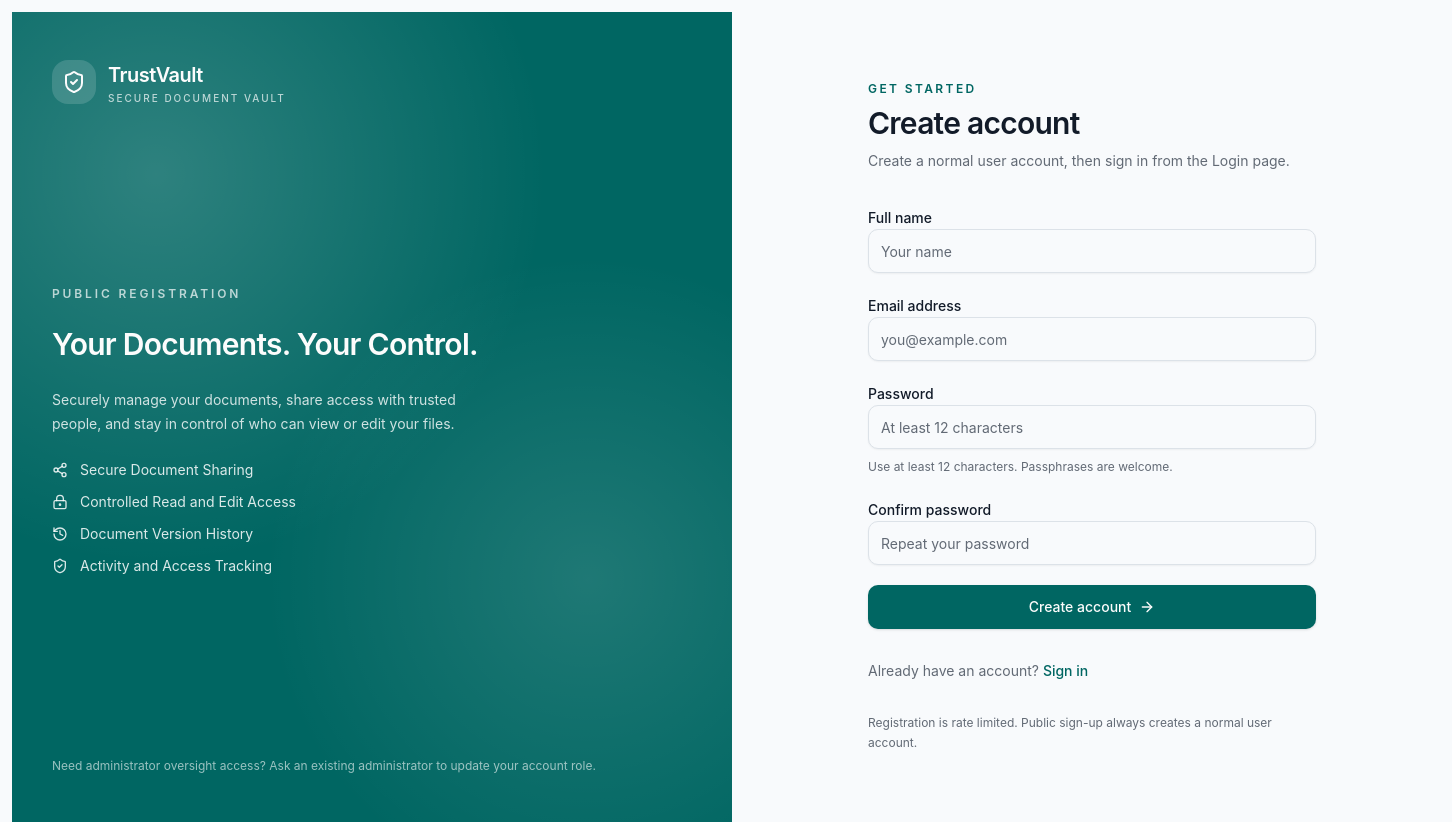
Test: RegisterPage › navigates to /verify-account when confirmation is required
The width and height of the screenshot is (1452, 822).
Type "New User" into the field labelled "Full name".
click(1092, 251); type("New User")  # box [868,229,1316,273]
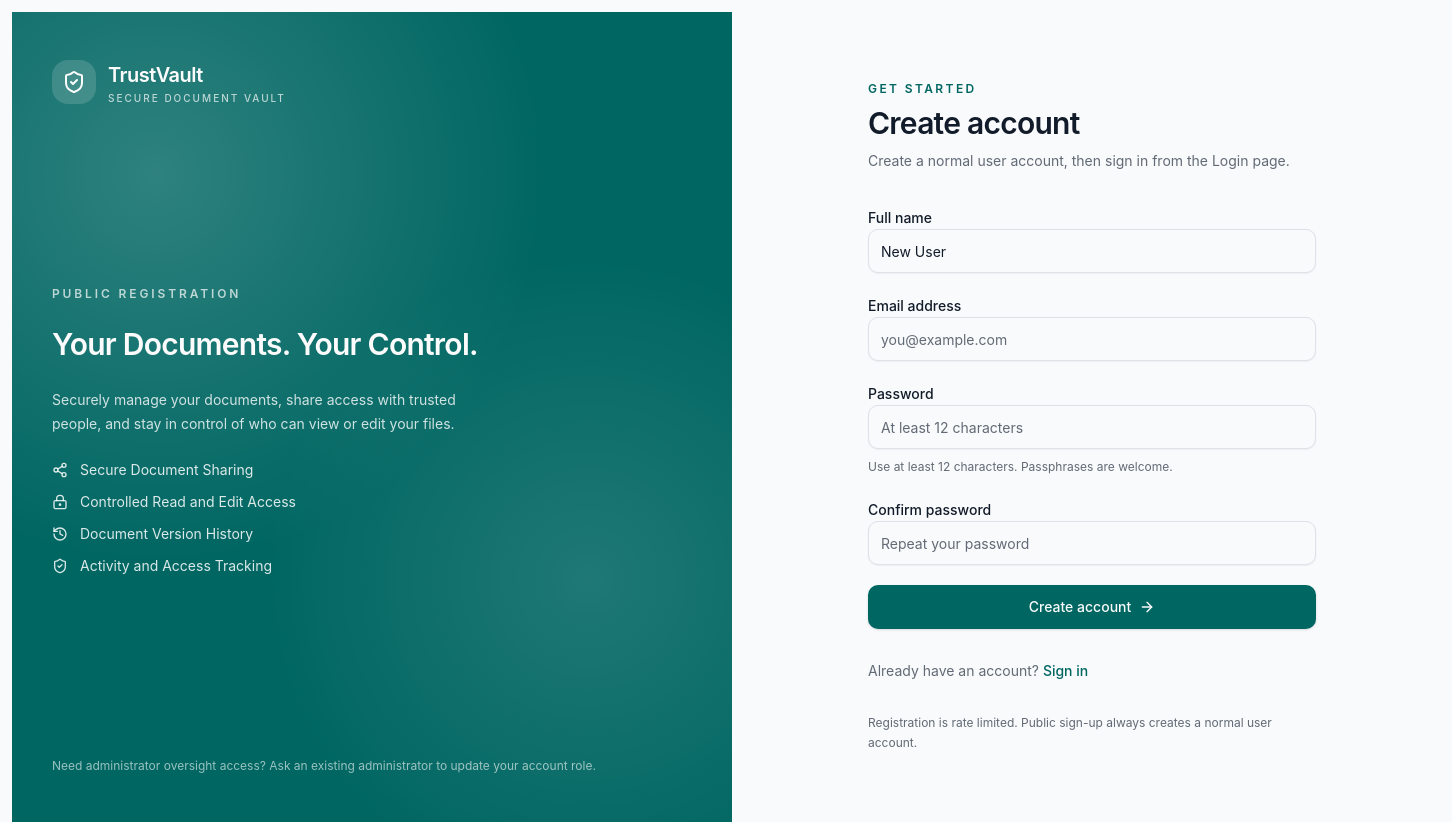
Type "new@example.com" into the field labelled "Email address".
click(1092, 339); type("new@example.com")  # box [868,317,1316,361]
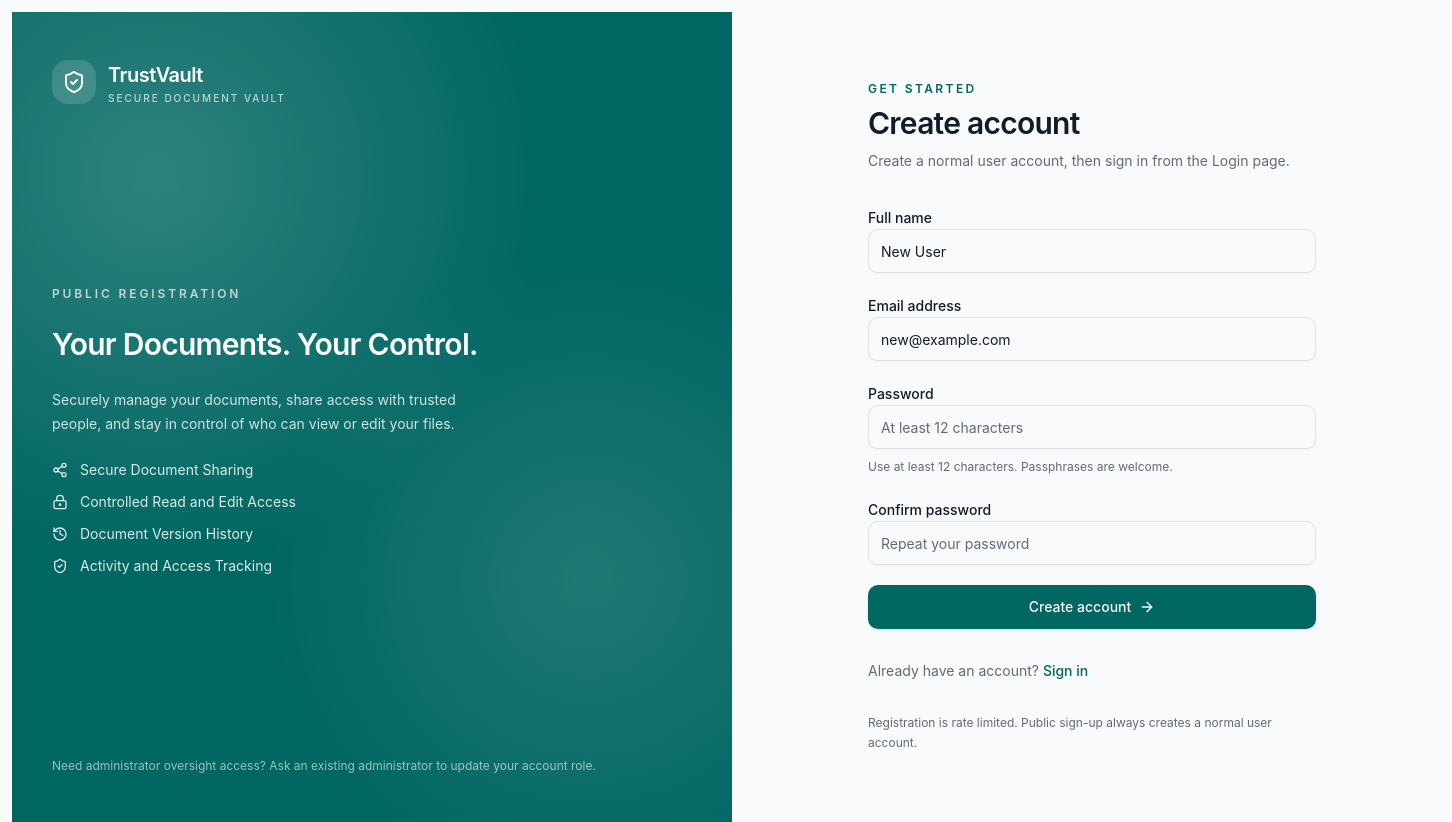
Type "a secure password 123" into the password field labelled "Password".
click(1092, 427); type("a secure password 123")  # box [868,405,1316,449]
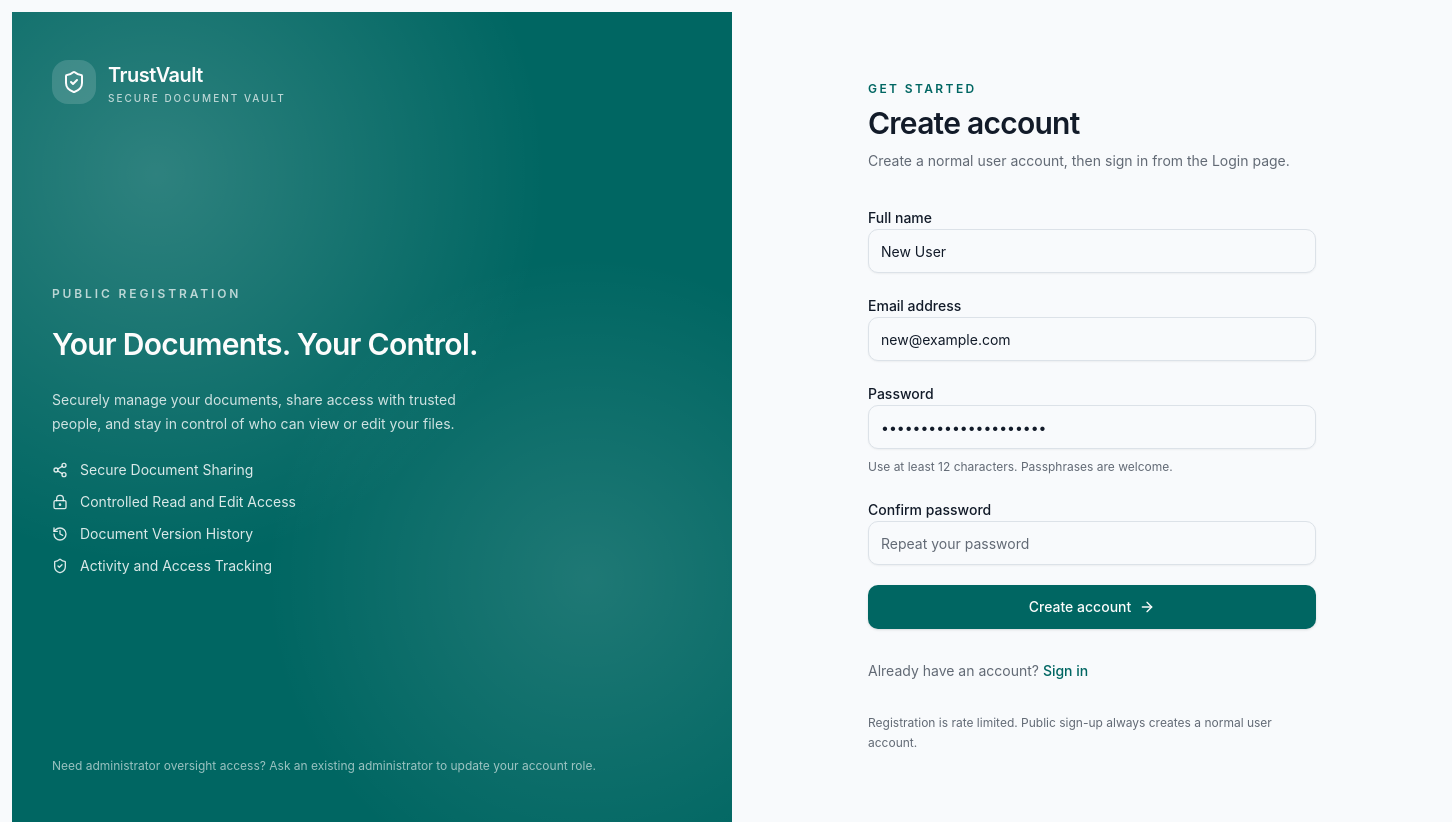
Type "a secure password 123" into the password field labelled "Confirm password".
click(1092, 543); type("a secure password 123")  # box [868,521,1316,565]
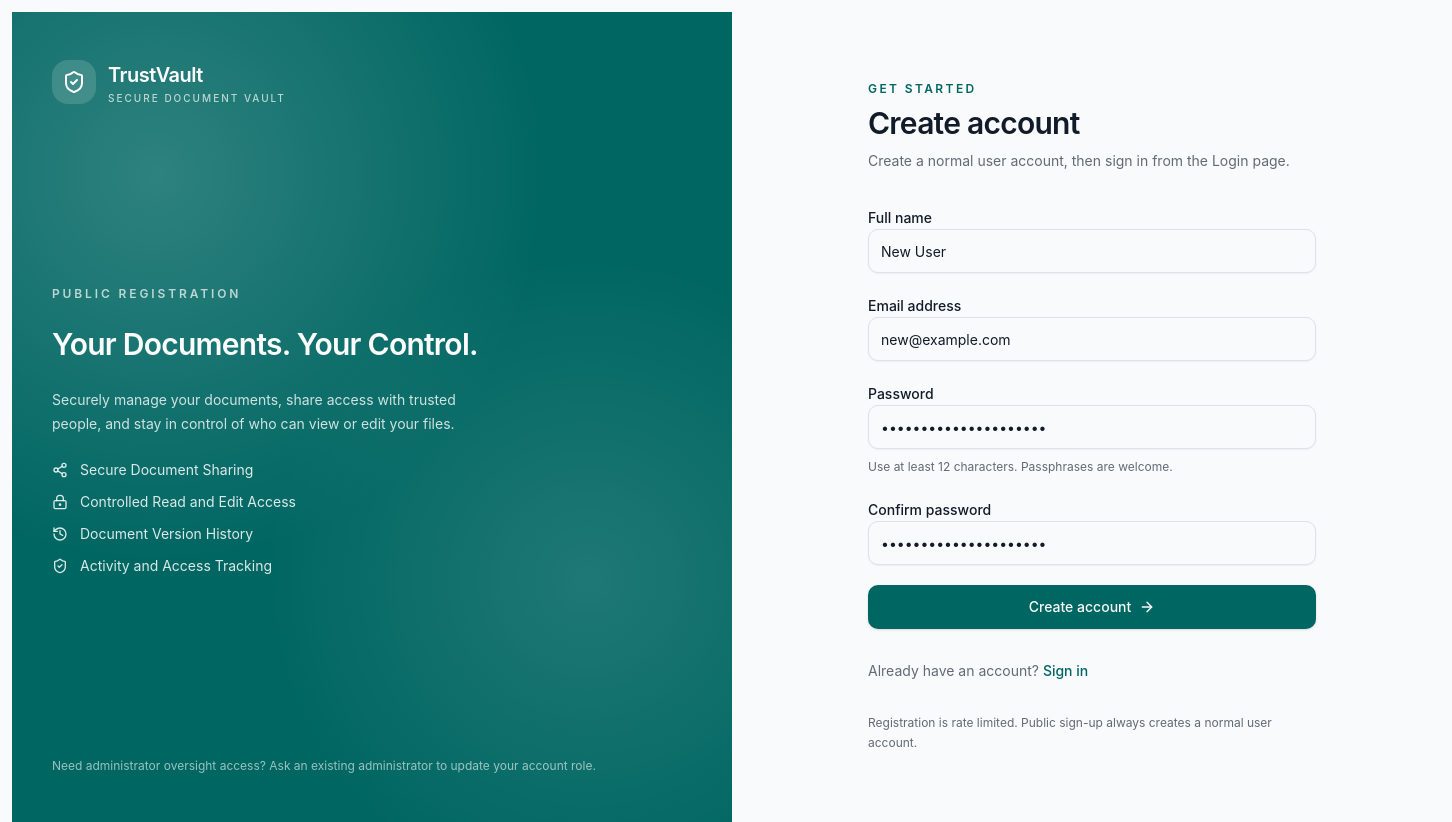
Click the button "Create account".
click(1092, 607)  # box [868,585,1316,629]
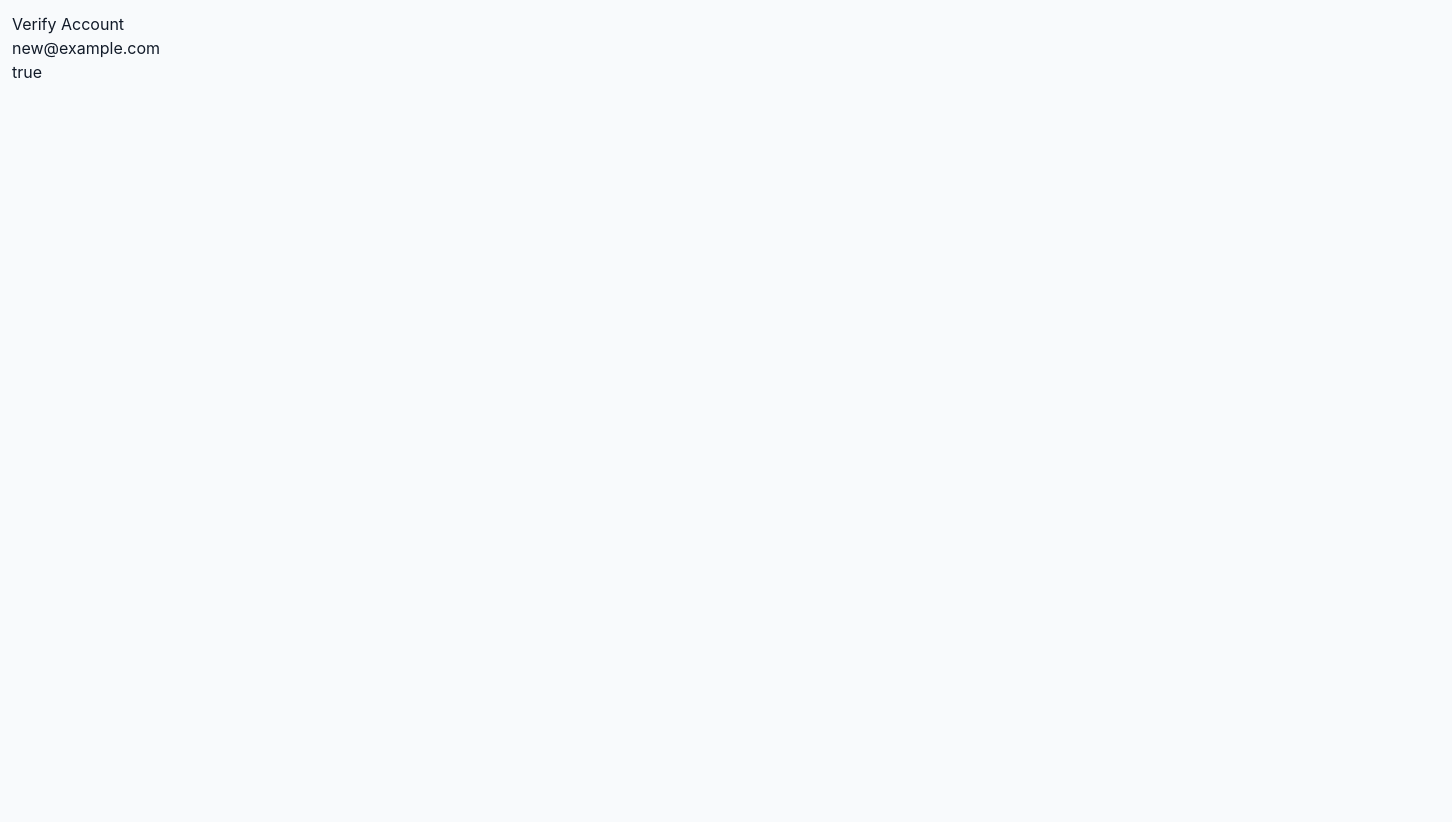
Expected: the heading "Verify Account" is shown, [12,14,124,34]
Expected: the text with test id "verify-email" reads "new@example.com", [12,38,160,58]
Expected: the text with test id "account-created" reads "true", [12,62,42,82]
